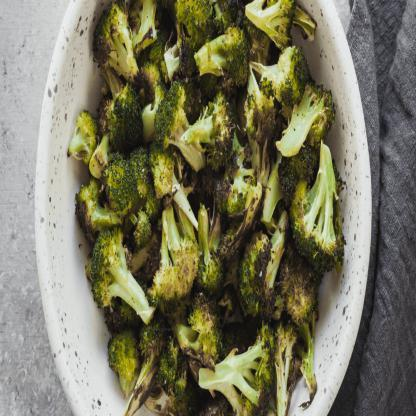broccoli: (68, 0, 341, 415)
